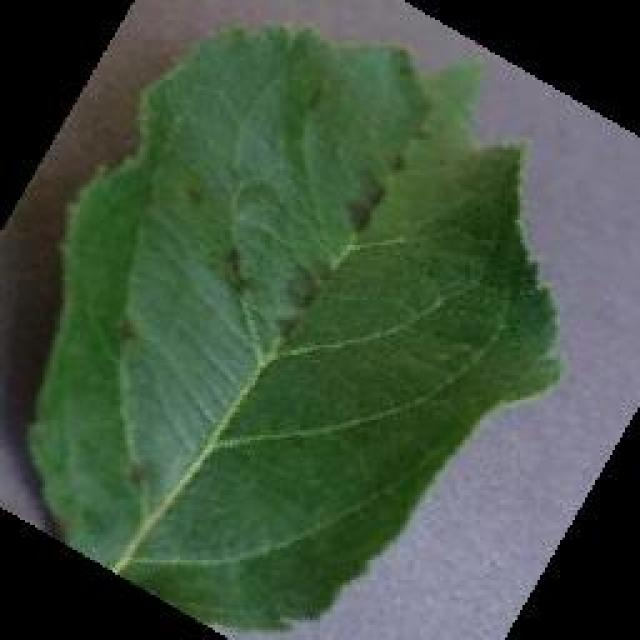apple scab disease: (22, 18, 562, 632)
